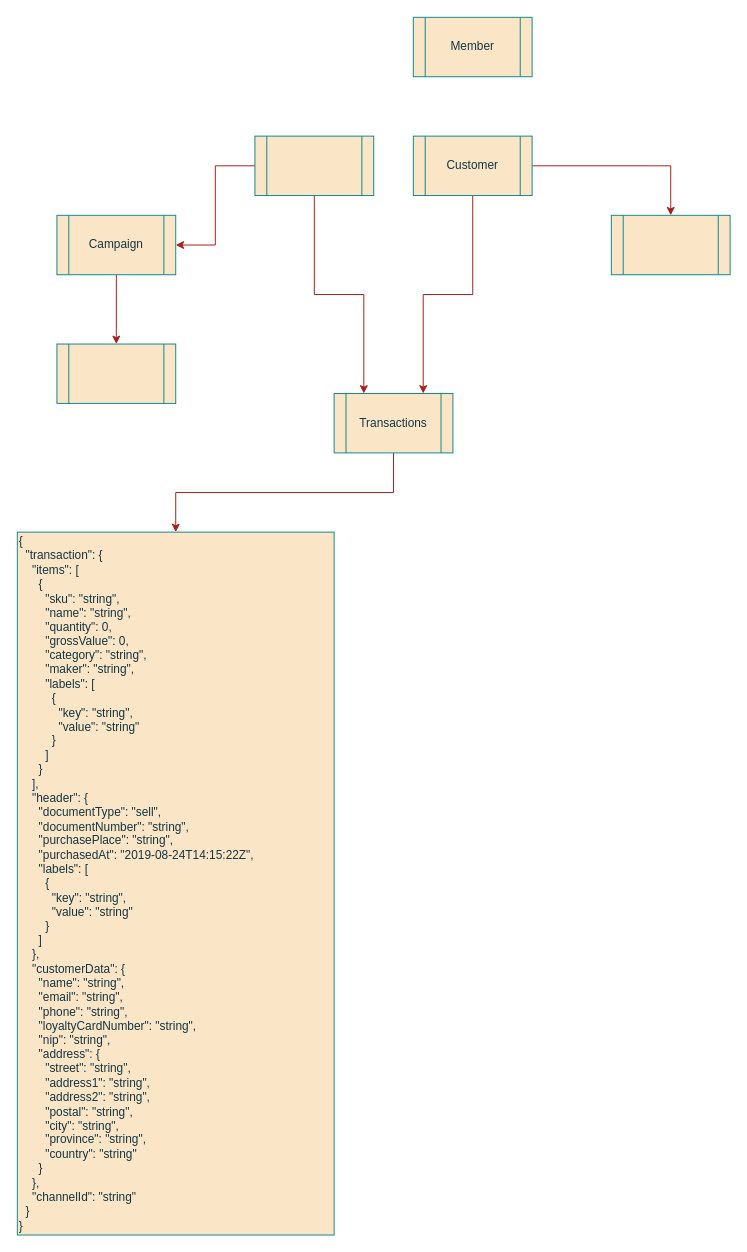
Image size: 747x1252. Some labels were removed from this diagram. The box of each missing label's shape, as (x1, y1, x2, y2) in pixels:
Merchant: (254, 135, 374, 196)
Points: (56, 343, 176, 403)
Wallets: (610, 214, 730, 275)
